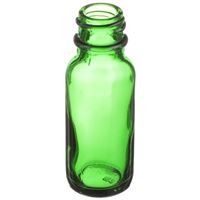container: (65, 2, 136, 193)
